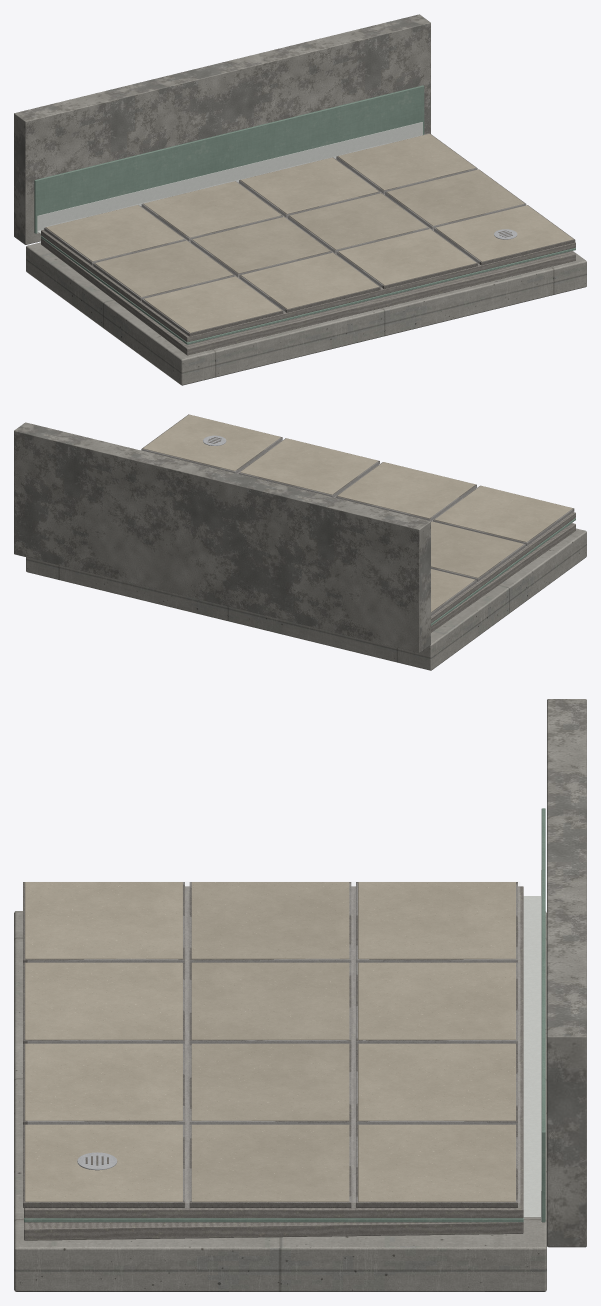
The model's file is chi-tiet-chong-tham.glb.
3 views of the same model, one above another, from view 1: azimuth 30°, elevation 25°; view 2: azimuth 150°, elevation 25°; view 3: azimuth 270°, elevation 25° (orthographic). The views are drawn at different scales.
Parts seen in each view (by area): view 1: step0_1, step2_4, step0_0, step1_2, step5_9, step5_15, step5_12, step5_14, step5_10, step5_7, step5_11, step5_16 (+7 smaller); view 2: step0_1, step0_0, step5_9, step5_12, step5_15, step5_18, step5_8, step3_5, step1_2, step4_6, step5_7, step2_3; view 3: step0_0, step0_1, step5_17, step5_16, step5_11, step5_14, step5_10, step5_12, step5_13, step5_15, step5_8, step5_7 (+7 smaller).
Part boxes in pixels (x1,y1,x2,y2): step0_1: [14, 14, 430, 244]; step2_4: [34, 85, 424, 233]; step0_0: [26, 242, 586, 385]; step1_2: [41, 229, 575, 355]; step5_9: [142, 276, 283, 336]; step5_15: [336, 229, 477, 289]; step5_12: [239, 252, 380, 312]; step5_14: [287, 193, 429, 253]; step5_10: [141, 181, 282, 241]; step5_7: [44, 204, 185, 264]; step5_11: [190, 216, 331, 276]; step5_16: [336, 133, 477, 193]; step0_1: [14, 422, 430, 652]; step0_0: [26, 528, 586, 670]; step5_9: [433, 485, 574, 545]; step5_12: [335, 462, 476, 521]; step5_15: [238, 438, 379, 497]; step5_18: [141, 414, 282, 473]; step5_8: [431, 521, 525, 581]; step3_5: [142, 438, 572, 616]; step1_2: [203, 435, 575, 632]; step4_6: [237, 441, 575, 623]; step5_7: [431, 569, 476, 615]; step2_3: [431, 518, 575, 625]; step0_0: [14, 911, 546, 1291]; step0_1: [547, 699, 586, 1247]; step5_17: [189, 1124, 351, 1207]; step5_16: [356, 1124, 517, 1207]; step5_11: [189, 962, 351, 1043]; step5_14: [189, 1043, 351, 1124]; step5_10: [356, 962, 517, 1043]; step5_12: [23, 962, 184, 1043]; step5_13: [356, 1043, 517, 1124]; step5_15: [23, 1043, 184, 1124]; step5_8: [189, 882, 351, 962]; step5_7: [356, 882, 517, 962].
Size of the model in its own units: 2.4 by 0.85 by 1.72.
9 materials, 9 textured.
